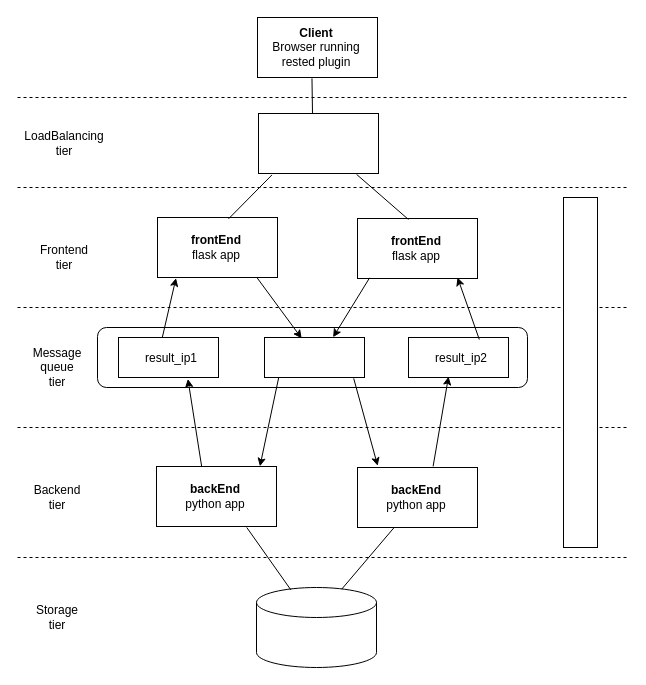
Some shapes in this 646 by 685 pixel diagram are drawn without their labels. Each missing label, with the centre of its shape:
"haproxy" belongs at point 318,143.
"Mysql DB" belongs at point 316,627.
"task" belongs at point 314,357.
"Zookeeper" belongs at point 580,372.
